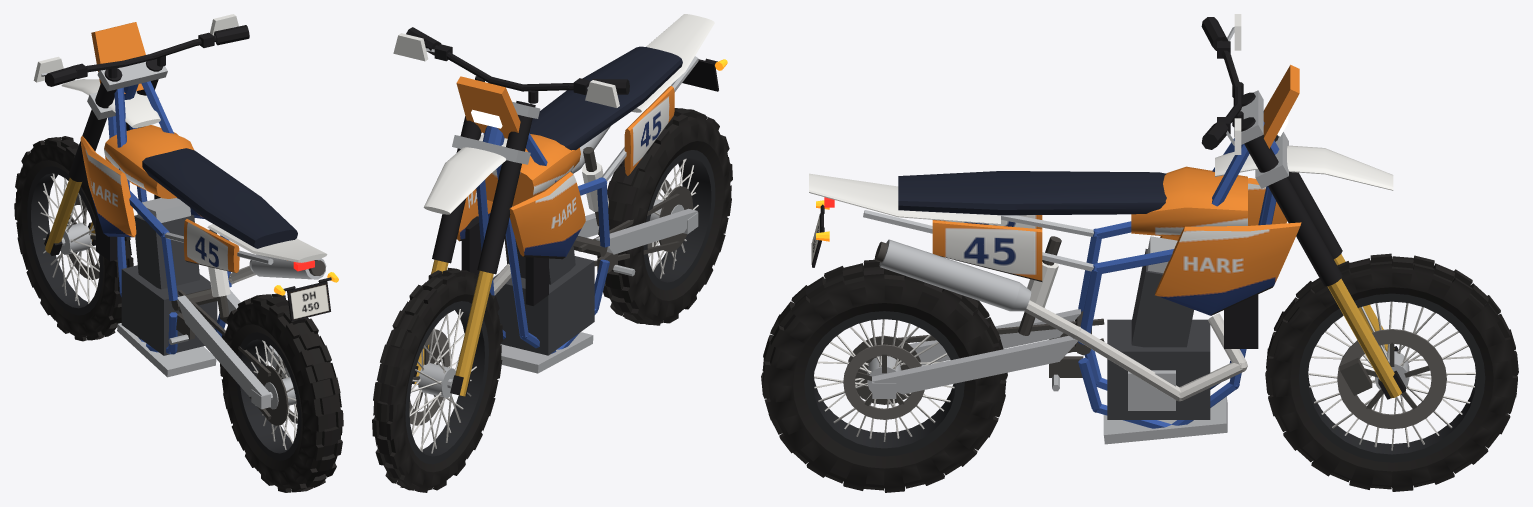
Rendered from BIKE-004_Export.fbx.
3 views of the same model, side by side, from view 1: azimuth 30°, elevation 25°; view 2: azimuth 150°, elevation 25°; view 3: azimuth 270°, elevation 25° (orthographic). The views are drawn at different scales.
Visible parts, largest first — view 1: BIKE-004_Frame, BIKE-004_Wheel_R_Tire, BIKE-004_Fork, BIKE-004_Body, BIKE-004_Wheel_F_Tire, BIKE-004_Wheel_F_Rim, BIKE-004_Wheel_R_Rim, BIKE-004_Lights; view 2: BIKE-004_Frame, BIKE-004_Fork, BIKE-004_Body, BIKE-004_Wheel_R_Tire, BIKE-004_Wheel_F_Tire, BIKE-004_Wheel_F_Rim, BIKE-004_Wheel_R_Rim; view 3: BIKE-004_Frame, BIKE-004_Wheel_R_Tire, BIKE-004_Body, BIKE-004_Wheel_F_Tire, BIKE-004_Fork, BIKE-004_Wheel_F_Rim, BIKE-004_Wheel_R_Rim.
Part boxes in pixels (left/top/right/bottom): BIKE-004_Frame: left=96, top=81, right=330, bottom=419; BIKE-004_Wheel_R_Tire: left=220, top=293, right=343, bottom=492; BIKE-004_Fork: left=33, top=14, right=249, bottom=255; BIKE-004_Body: left=80, top=125, right=327, bottom=272; BIKE-004_Wheel_F_Tire: left=14, top=136, right=133, bottom=341; BIKE-004_Wheel_F_Rim: left=27, top=166, right=103, bottom=315; BIKE-004_Wheel_R_Rim: left=236, top=332, right=301, bottom=460; BIKE-004_Lights: left=274, top=260, right=338, bottom=295; BIKE-004_Frame: left=461, top=46, right=718, bottom=373; BIKE-004_Fork: left=393, top=27, right=629, bottom=396; BIKE-004_Body: left=457, top=14, right=714, bottom=259; BIKE-004_Wheel_R_Tire: left=597, top=108, right=732, bottom=325; BIKE-004_Wheel_F_Tire: left=372, top=267, right=503, bottom=492; BIKE-004_Wheel_F_Rim: left=405, top=301, right=488, bottom=464; BIKE-004_Wheel_R_Rim: left=643, top=150, right=715, bottom=290; BIKE-004_Frame: left=811, top=121, right=1279, bottom=444; BIKE-004_Wheel_R_Tire: left=761, top=259, right=1007, bottom=492; BIKE-004_Body: left=809, top=166, right=1301, bottom=315; BIKE-004_Wheel_F_Tire: left=1265, top=253, right=1518, bottom=491; BIKE-004_Fork: left=1201, top=14, right=1405, bottom=399; BIKE-004_Wheel_F_Rim: left=1299, top=293, right=1485, bottom=462; BIKE-004_Wheel_R_Rim: left=804, top=311, right=964, bottom=456.
Size of the model in its own units: 0.84 by 1.34 by 2.21.
Materials: 17 (2 with a texture image).
